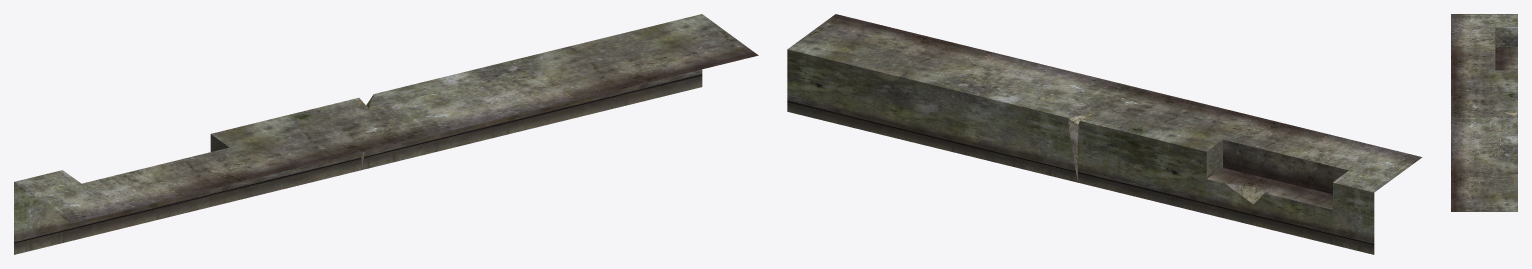
File: Trottoir_14.fbx
The picture shows the model from 3 angles, left to right: view 1: azimuth 30°, elevation 25°; view 2: azimuth 150°, elevation 25°; view 3: azimuth 270°, elevation 25°; orthographic projection. The views are drawn at different scales.
Visible parts, largest first — view 1: Trottoir_14; view 2: Trottoir_14; view 3: Trottoir_14.
Boxes of the visible parts, x1=… form: Trottoir_14: x1=14, y1=14, x2=758, y2=254; Trottoir_14: x1=787, y1=14, x2=1422, y2=254; Trottoir_14: x1=1451, y1=14, x2=1517, y2=211.
Bounding box in the file's own units: 700 × 71.38 × 100.
